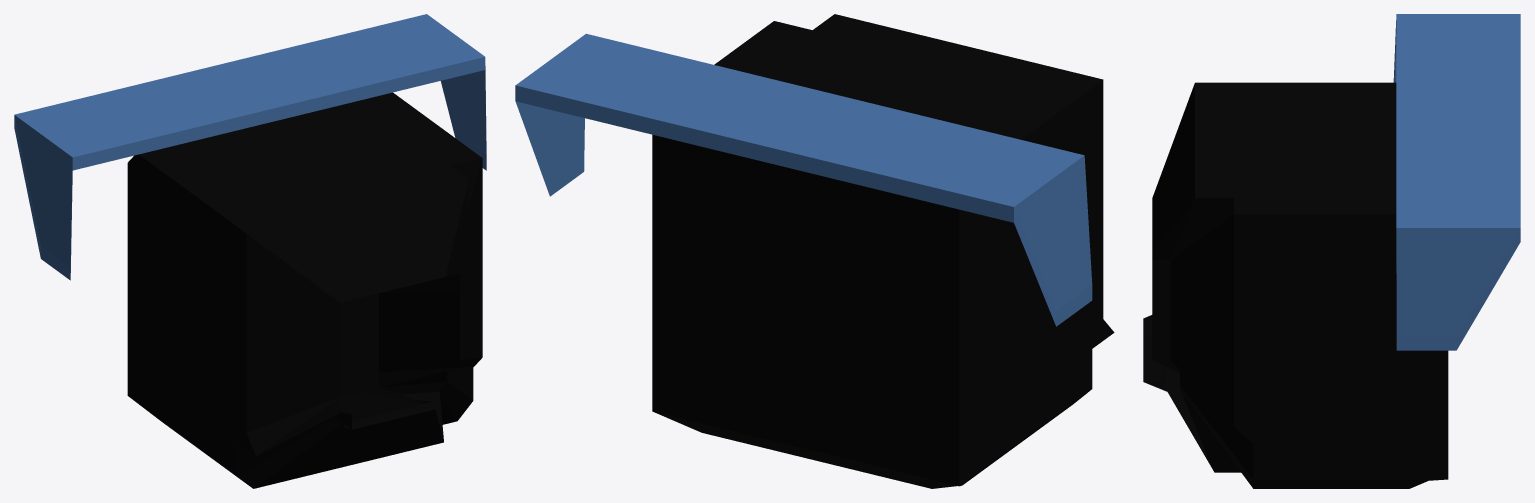
Rendered from TVScreen.fbx.
3 views of the same model, side by side, from view 1: azimuth 30°, elevation 25°; view 2: azimuth 150°, elevation 25°; view 3: azimuth 270°, elevation 25° (orthographic). The views are drawn at different scales.
Visible parts, largest first — view 1: TVScreen-col; view 2: TVScreen-col; view 3: TVScreen-col.
Boxes of the visible parts, x1,y1,x2,y2 form: TVScreen-col: (14,14,486,488); TVScreen-col: (515,14,1114,488); TVScreen-col: (1143,14,1520,488).
Bounding box in the file's own units: 280 × 187 × 206.
